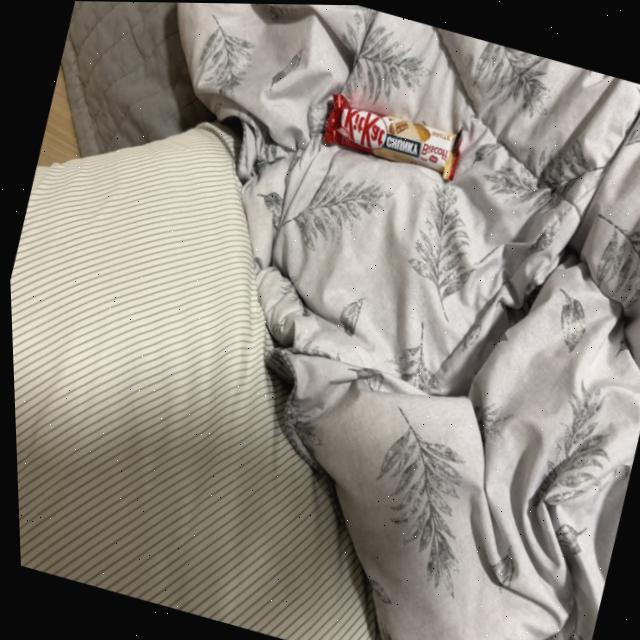chocolate: (308, 83, 472, 189)
